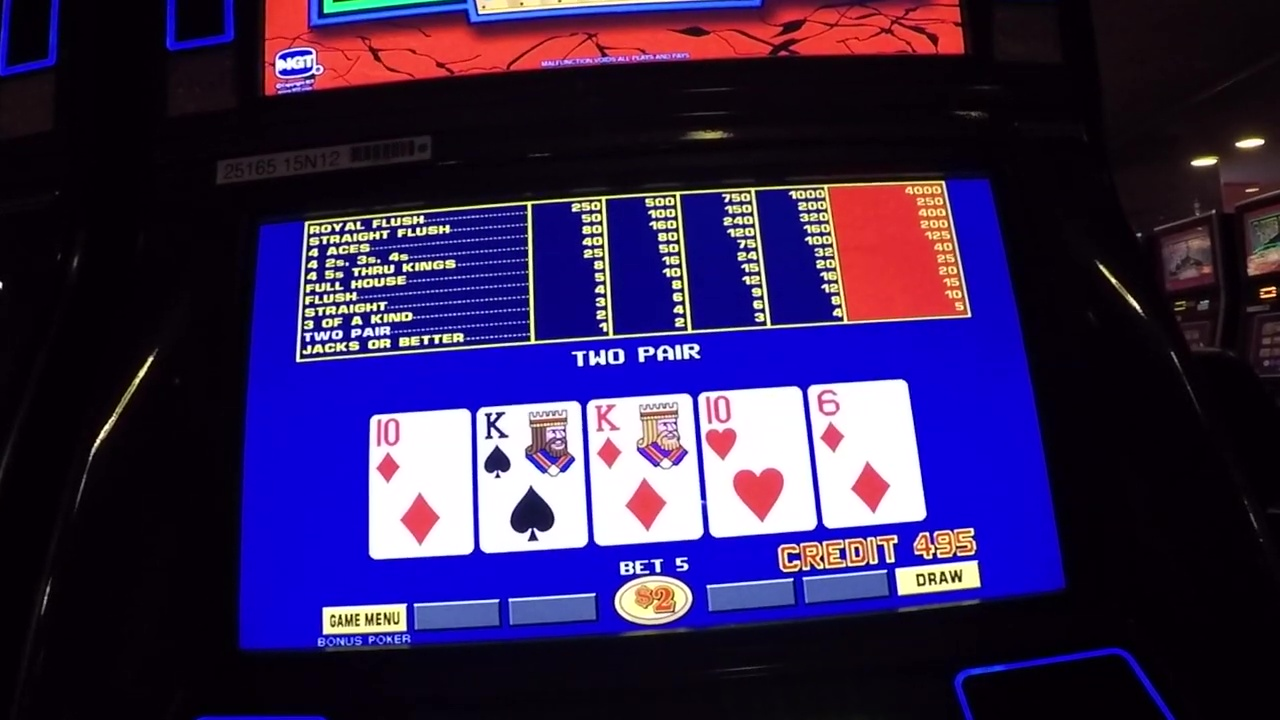D6: (815, 385, 912, 458)
DK: (593, 402, 689, 470)
DT: (705, 392, 803, 469), (375, 416, 470, 485)
SK: (480, 410, 583, 485)
